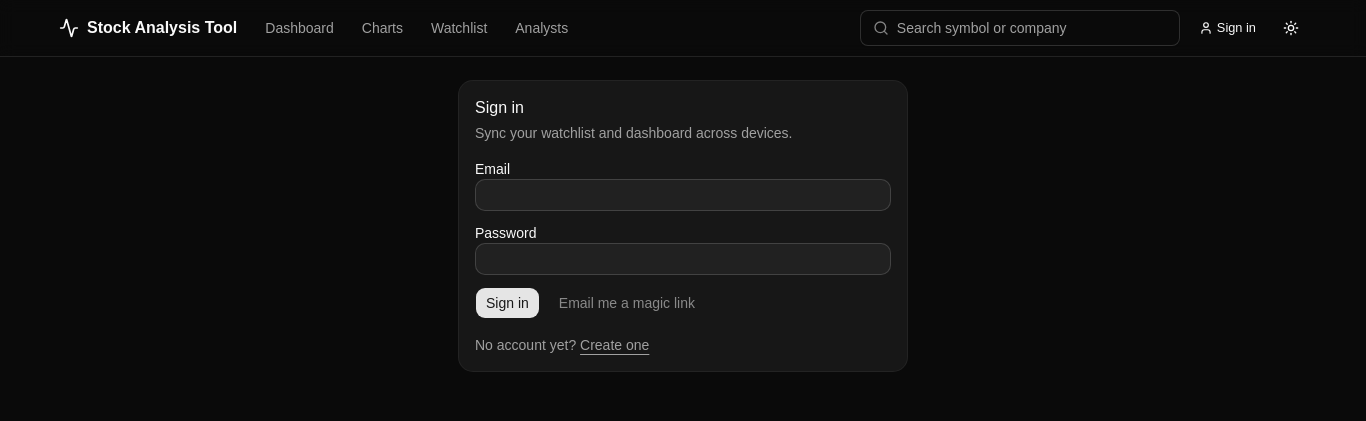
Scenario: auth flow › sends a magic link
Type "a@example.com" into the field labelled "Email". click: (683, 195)
box: [475,179,891,211]
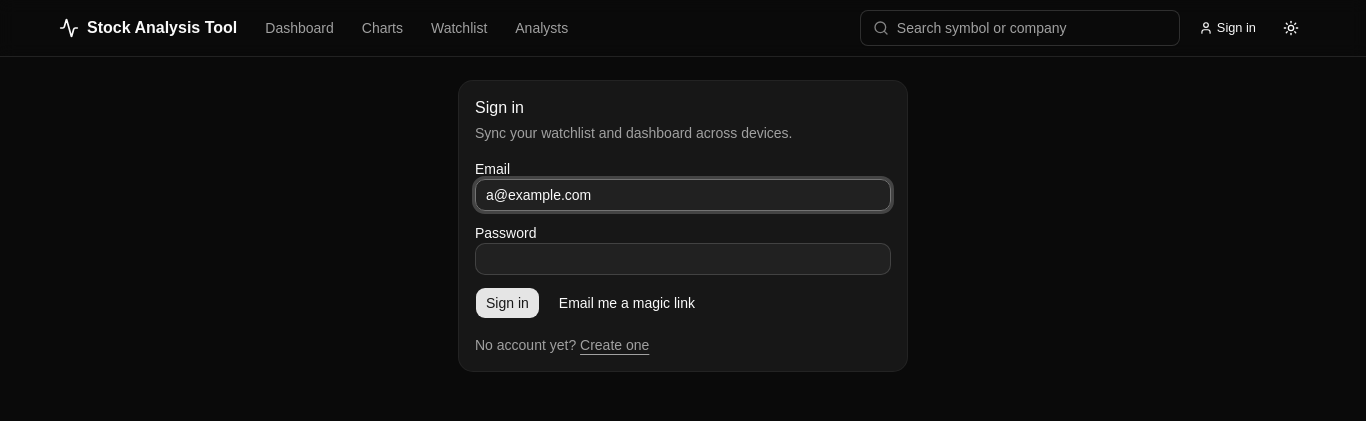
Click the button "Email me a magic link". click: (627, 303)
box: [548,287,706,319]
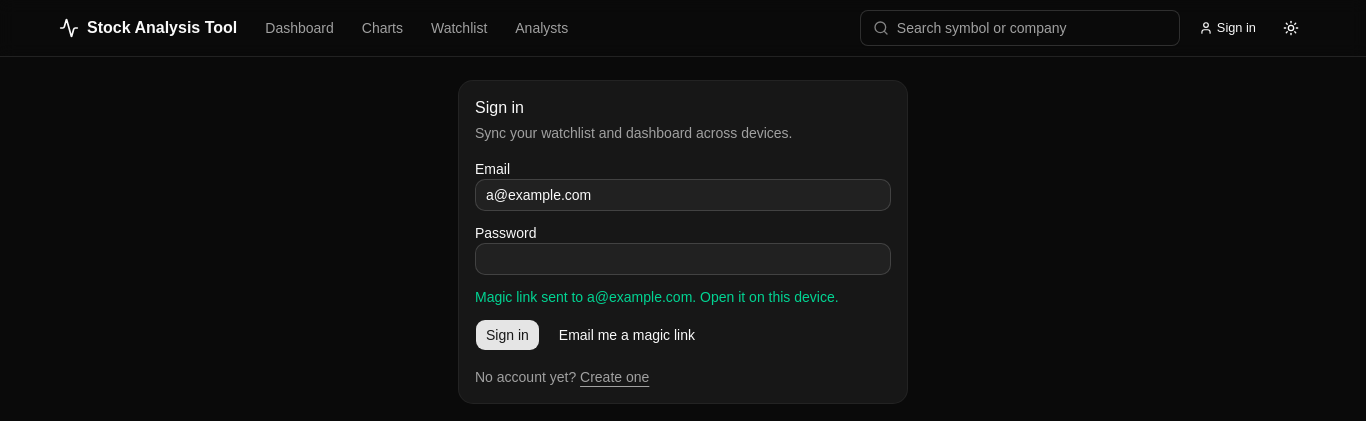
Now the message shows "Magic link sent to a@example.com", box [475,289,839,305]
